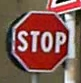stop: (8, 9, 70, 74)
